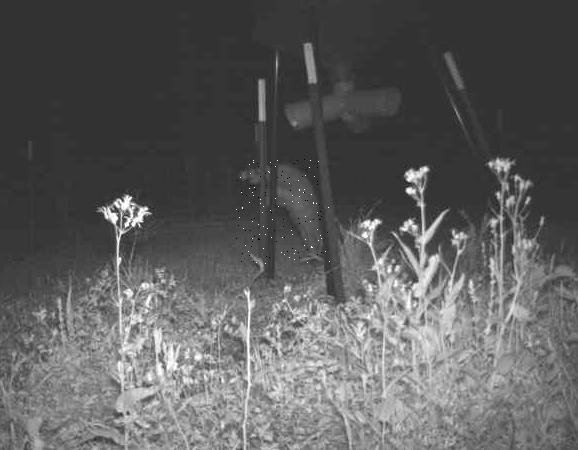Raccoon: (236, 159, 330, 264)
